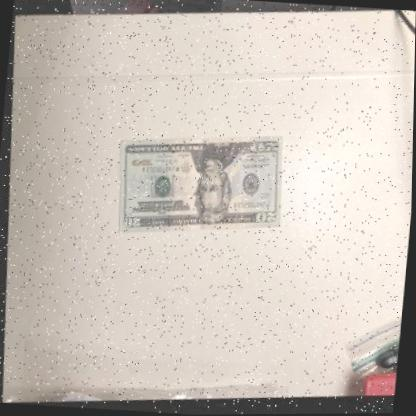twenty-front: (110, 130, 285, 247)
